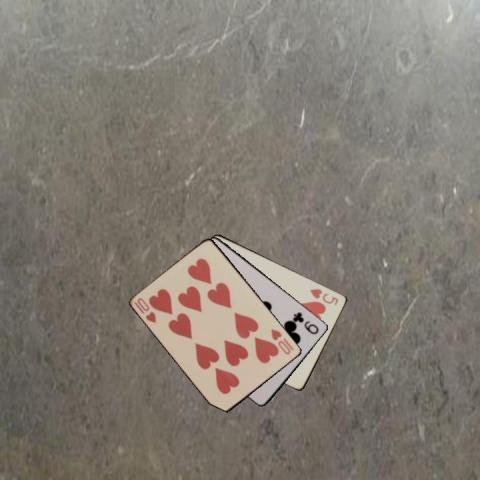10h: (268, 326, 296, 356), (131, 294, 158, 324)
5h: (307, 285, 340, 307)
9c: (290, 309, 320, 336)
